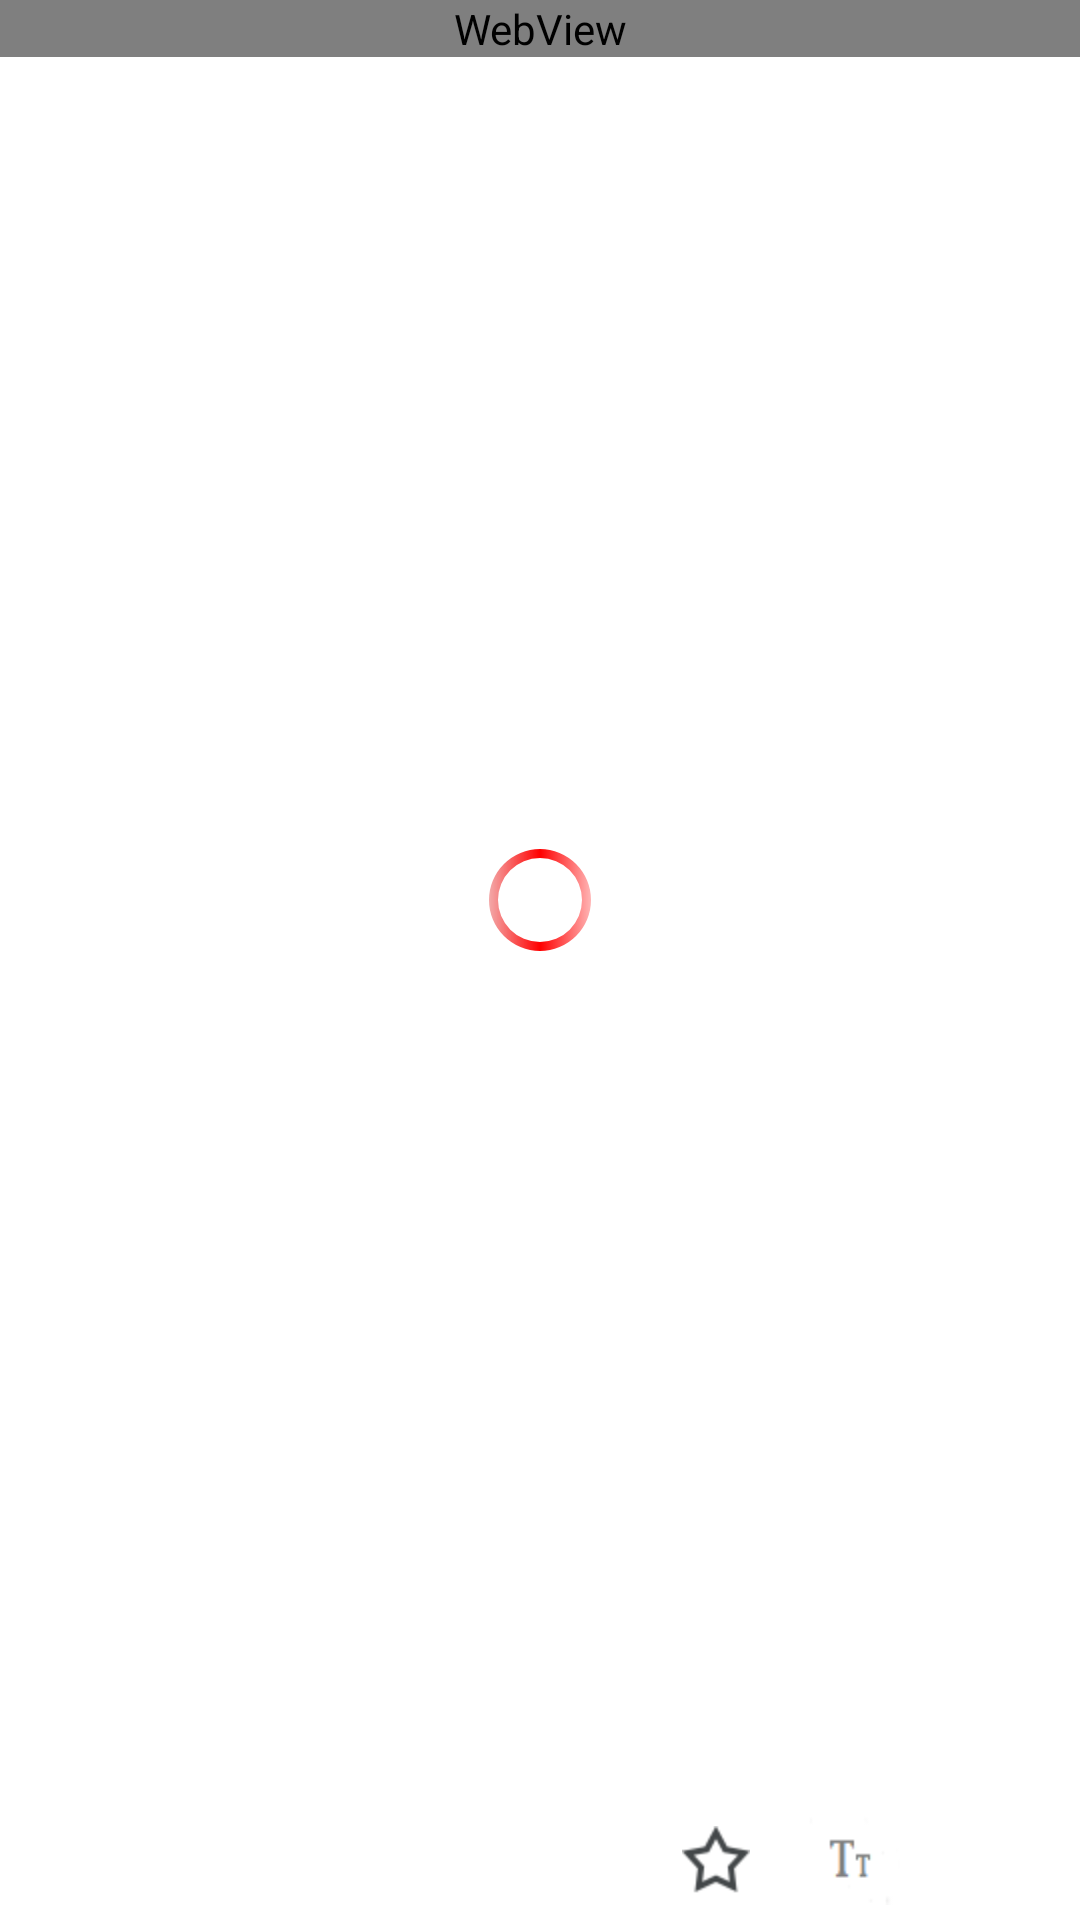

Icons on this 1080 x 1920 Android screen, each with its box as (x1, y1, x2, y2):
save: (682, 1826, 750, 1892)
